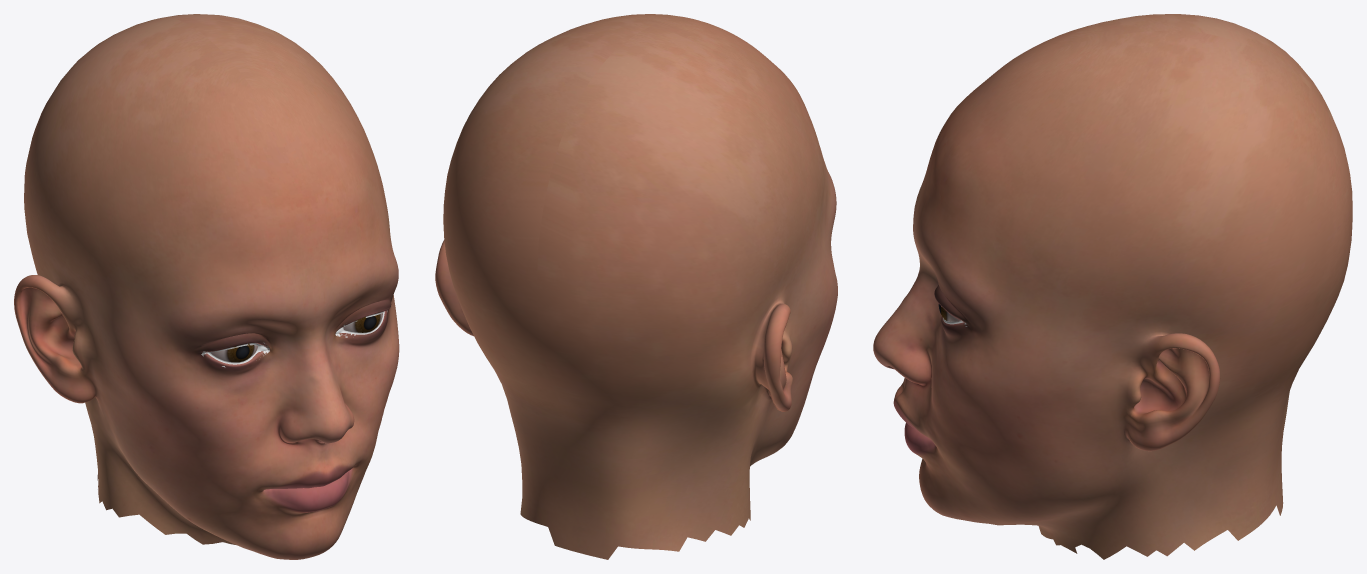
3 views of the same model, side by side, from view 1: azimuth 30°, elevation 25°; view 2: azimuth 150°, elevation 25°; view 3: azimuth 270°, elevation 25° (orthographic). The views are drawn at different scales.
Parts seen in each view (by area): view 1: Face.001; view 2: Face.001; view 3: Face.001.
Part boxes in pixels (bbox=[...]): Face.001: bbox=[14, 14, 399, 559]; Face.001: bbox=[435, 14, 837, 559]; Face.001: bbox=[873, 14, 1352, 559].
Bounding box in the file's own units: 0.161 × 0.2199 × 0.1923.
7 materials, 2 textured.
